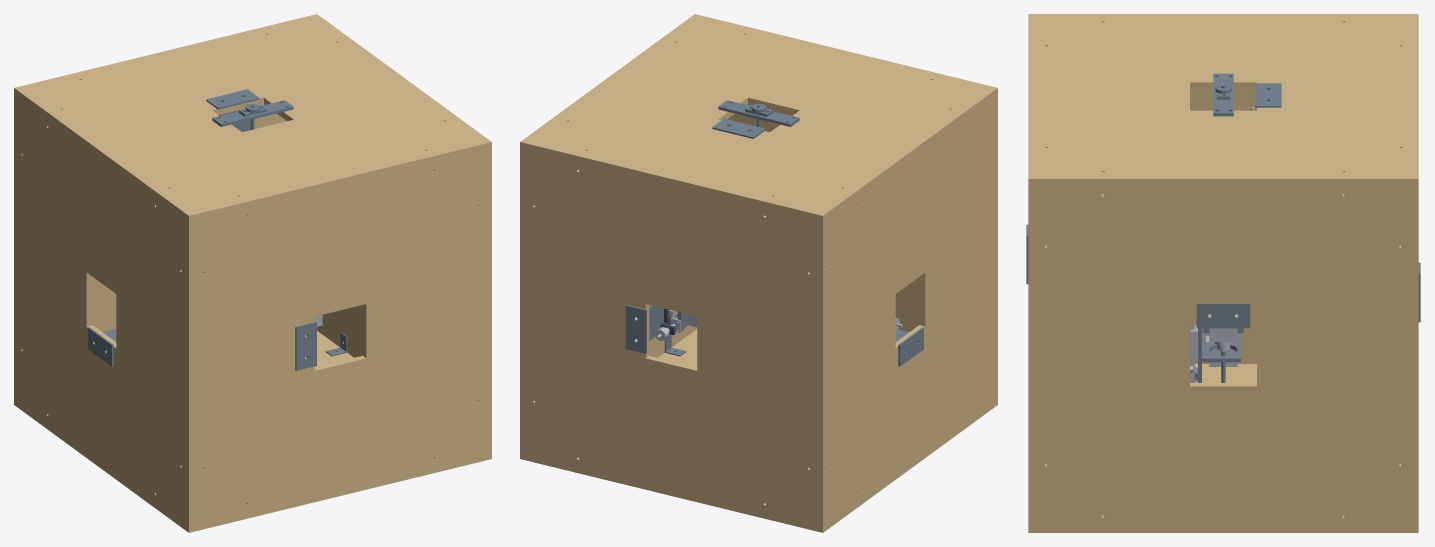
The model's file is robot_assembly.glb.
3 renders of one model, left to right at view 1: azimuth 30°, elevation 25°; view 2: azimuth 150°, elevation 25°; view 3: azimuth 270°, elevation 25°, orthographic. The views are drawn at different scales.
Visible parts, largest first — view 1: panel_D, panel_L, panel_F, panel_U, panel_R, profile_end_plate_D, shaft_bridge_F, profile_end_plate_L, profile_end_plate_F, panel_B; view 2: panel_U, panel_L, panel_F, panel_D, panel_R, profile_end_plate_U, shaft_bridge_F, panel_B, profile_end_plate_L, profile_end_plate_F; view 3: panel_R, panel_F, panel_U, panel_D, panel_L, profile_end_plate_R, panel_B, carriage, shaft_bridge_F, profile_end_plate_F.
Boxes of the visible parts, left/top/right/bottom form: panel_D: left=185, top=139, right=491, bottom=532; panel_L: left=17, top=89, right=191, bottom=529; panel_F: left=24, top=18, right=481, bottom=211; panel_U: left=14, top=14, right=319, bottom=407; panel_R: left=314, top=16, right=487, bottom=357; profile_end_plate_D: left=295, top=322, right=316, bottom=370; shaft_bridge_F: left=212, top=100, right=293, bottom=126; profile_end_plate_L: left=88, top=327, right=113, bottom=366; profile_end_plate_F: left=206, top=89, right=259, bottom=109; panel_B: left=314, top=331, right=353, bottom=367; panel_U: left=520, top=139, right=826, bottom=532; panel_L: left=820, top=89, right=994, bottom=529; panel_F: left=530, top=18, right=987, bottom=211; panel_D: left=692, top=14, right=997, bottom=407; panel_R: left=524, top=16, right=697, bottom=357; profile_end_plate_U: left=625, top=305, right=646, bottom=353; shaft_bridge_F: left=718, top=100, right=799, bottom=126; panel_B: left=658, top=329, right=697, bottom=367; profile_end_plate_L: left=898, top=327, right=923, bottom=366; profile_end_plate_F: left=712, top=118, right=765, bottom=138; panel_R: left=1036, top=175, right=1410, bottom=532; panel_F: left=1036, top=17, right=1410, bottom=175; panel_U: left=1410, top=14, right=1418, bottom=532; panel_D: left=1028, top=14, right=1036, bottom=532; panel_L: left=1036, top=14, right=1410, bottom=363; profile_end_plate_R: left=1196, top=303, right=1250, bottom=328; panel_B: left=1194, top=364, right=1256, bottom=382; carriage: left=1194, top=328, right=1240, bottom=382; shaft_bridge_F: left=1213, top=73, right=1233, bottom=116; profile_end_plate_F: left=1255, top=83, right=1281, bottom=107.
Bounding box in the file's own units: 590 × 620 × 590.
